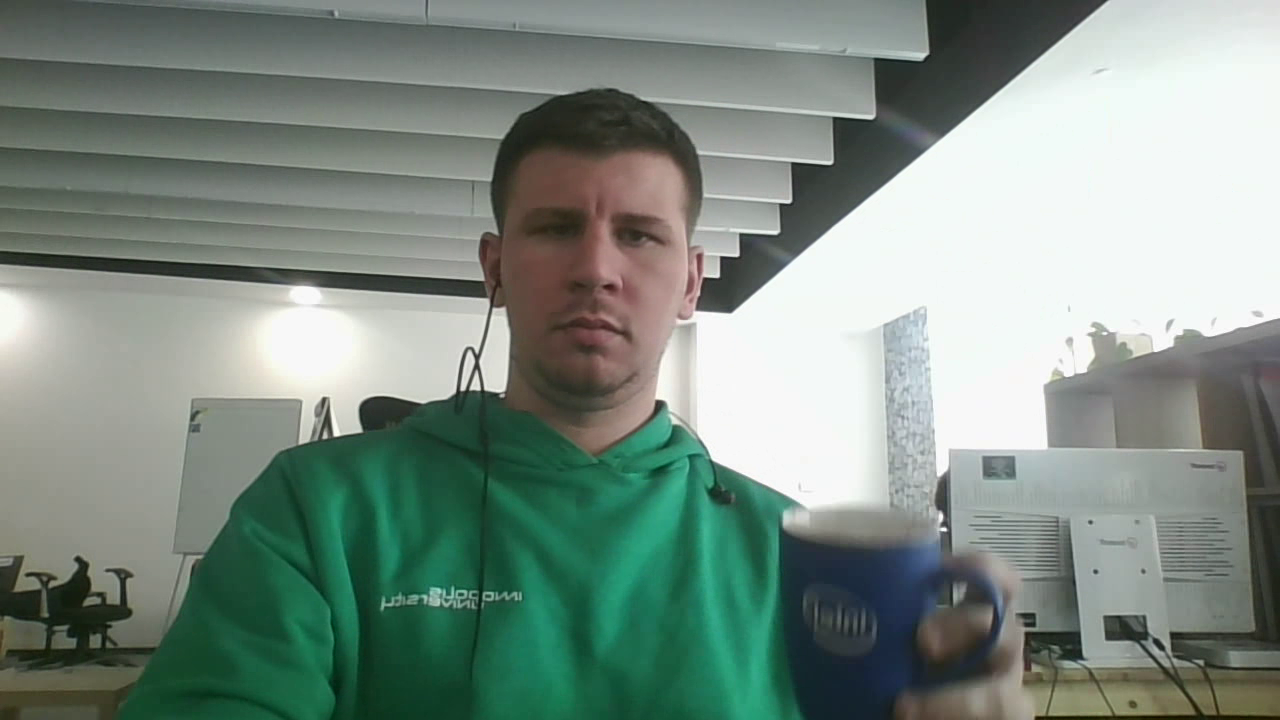cup: (779, 504, 1003, 719)
